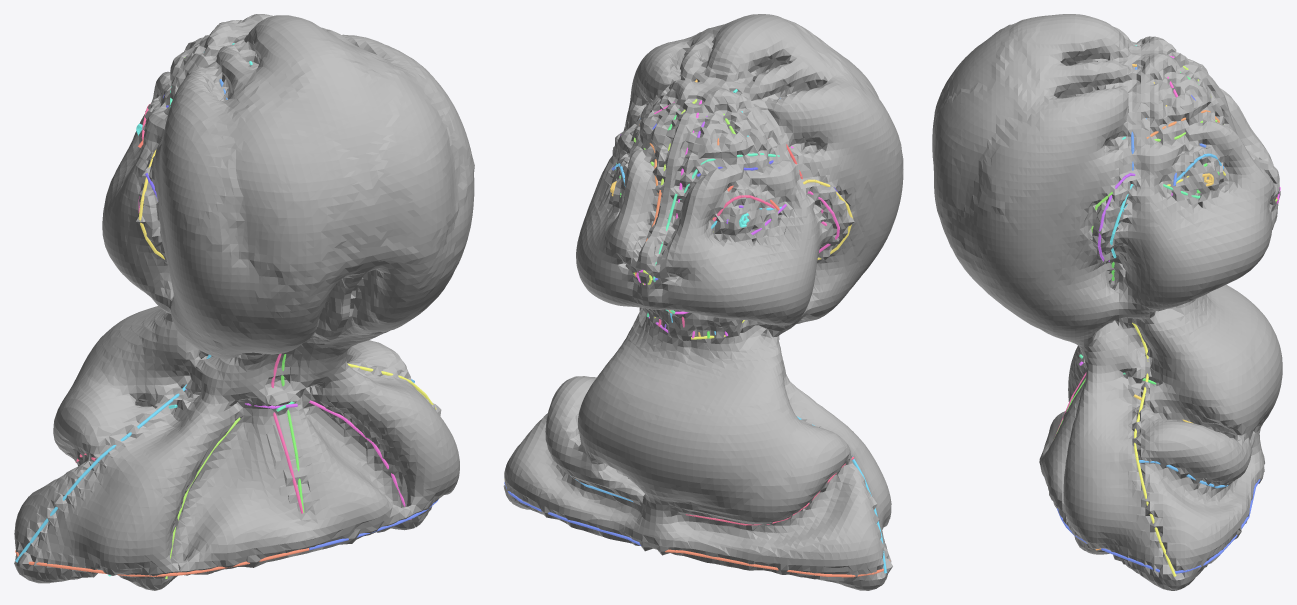
The model's file is author1_bust.gltf.
The picture shows the model from 3 angles, left to right: view 1: azimuth 30°, elevation 25°; view 2: azimuth 150°, elevation 25°; view 3: azimuth 270°, elevation 25°; orthographic projection. The views are drawn at different scales.
Bounding box in the file's own units: 0.626 × 0.7574 × 0.4935.
